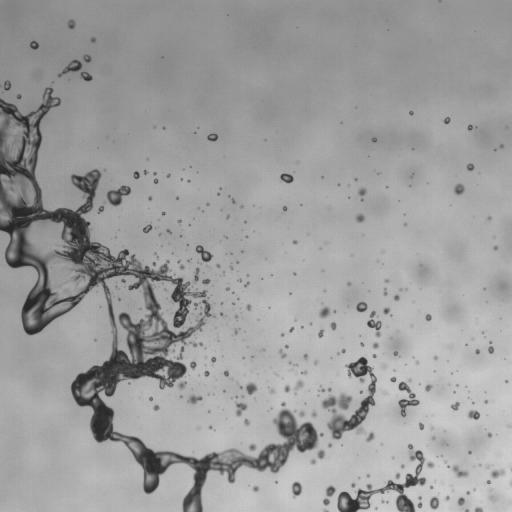droplet: (321, 357, 376, 439), (398, 381, 419, 416), (106, 185, 130, 206), (195, 245, 212, 262), (451, 465, 468, 477), (291, 481, 302, 497), (235, 402, 247, 416), (245, 382, 257, 394), (319, 306, 330, 318), (280, 173, 293, 183), (429, 496, 439, 509), (491, 469, 505, 478), (188, 395, 202, 403), (356, 302, 367, 312), (80, 72, 92, 81), (294, 380, 303, 392), (454, 184, 464, 194), (2, 80, 11, 91), (468, 410, 479, 419), (143, 224, 152, 233), (207, 133, 217, 141), (177, 381, 187, 389), (366, 431, 374, 441), (278, 349, 286, 358), (30, 41, 38, 49), (83, 54, 91, 62), (358, 188, 366, 196), (356, 214, 364, 222), (451, 402, 459, 410), (248, 443, 256, 451), (68, 19, 75, 28), (317, 449, 324, 458), (457, 497, 464, 505), (190, 361, 196, 369), (467, 163, 473, 170), (133, 171, 139, 178), (383, 307, 389, 314), (425, 314, 431, 321), (330, 322, 336, 329), (372, 342, 378, 349), (284, 385, 290, 392), (425, 384, 431, 391), (489, 494, 496, 500), (444, 117, 450, 123), (202, 279, 209, 284), (318, 330, 323, 337), (488, 346, 493, 353), (467, 125, 473, 130), (98, 206, 103, 212), (153, 405, 159, 410), (244, 419, 249, 425), (395, 473, 400, 479), (252, 486, 258, 491), (394, 295, 399, 300), (194, 303, 199, 308), (289, 327, 294, 332), (204, 371, 209, 376), (319, 387, 324, 392), (269, 388, 274, 393), (310, 459, 315, 464), (246, 304, 250, 310), (211, 357, 215, 363), (224, 370, 228, 376), (390, 377, 396, 381), (312, 411, 316, 417), (419, 423, 423, 429), (381, 499, 387, 503), (91, 37, 95, 42), (244, 282, 249, 286), (383, 290, 387, 295), (234, 329, 238, 334), (475, 349, 479, 354), (303, 354, 307, 359), (444, 496, 449, 500), (17, 94, 21, 98), (409, 111, 413, 115), (372, 138, 376, 142), (154, 179, 158, 183), (167, 229, 171, 233), (293, 240, 297, 244), (341, 349, 345, 353), (351, 483, 355, 487), (302, 371, 307, 374), (144, 170, 147, 174), (10, 187, 14, 190), (283, 206, 286, 210), (493, 246, 497, 249), (394, 351, 397, 355), (372, 354, 376, 357), (488, 433, 491, 437), (487, 480, 490, 484), (323, 509, 328, 511), (500, 144, 503, 147), (167, 174, 170, 177), (148, 197, 151, 200), (232, 199, 235, 202), (152, 262, 155, 265), (217, 264, 220, 267), (385, 279, 388, 282), (347, 282, 350, 285), (226, 287, 229, 290), (360, 343, 363, 346), (285, 345, 288, 348), (314, 361, 317, 364), (382, 365, 385, 368), (149, 397, 152, 400), (328, 444, 331, 447), (327, 388, 331, 390), (382, 391, 386, 393), (162, 212, 165, 214), (488, 216, 490, 219), (178, 220, 180, 223), (230, 266, 232, 269), (238, 279, 241, 281), (58, 284, 61, 286), (115, 286, 118, 288), (220, 313, 223, 315), (408, 379, 411, 381), (209, 426, 212, 428), (468, 451, 471, 453), (401, 465, 404, 467), (367, 474, 369, 477), (430, 486, 433, 488), (227, 215, 229, 217), (155, 255, 157, 257), (235, 315, 237, 317), (300, 326, 302, 328), (281, 333, 283, 335), (434, 356, 436, 358), (416, 361, 418, 363), (295, 364, 297, 366), (485, 400, 487, 402), (508, 425, 510, 427), (431, 426, 433, 428), (432, 437, 434, 439), (444, 461, 446, 463), (447, 465, 449, 467)
ligament: (0, 87, 323, 511), (337, 444, 434, 511), (58, 60, 82, 76), (367, 311, 381, 337), (323, 485, 335, 505), (178, 260, 184, 269), (418, 497, 422, 507), (474, 507, 483, 511), (509, 480, 511, 486), (464, 510, 469, 511), (510, 467, 511, 470)
